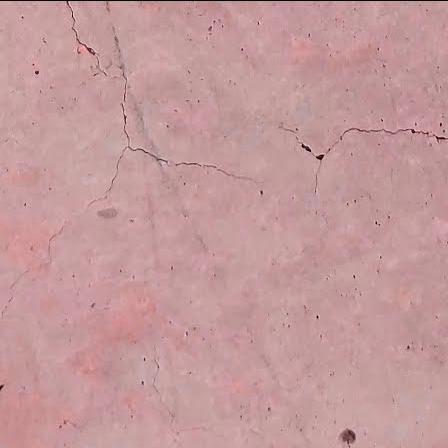crack: (59, 0, 269, 208), (277, 62, 448, 200)
